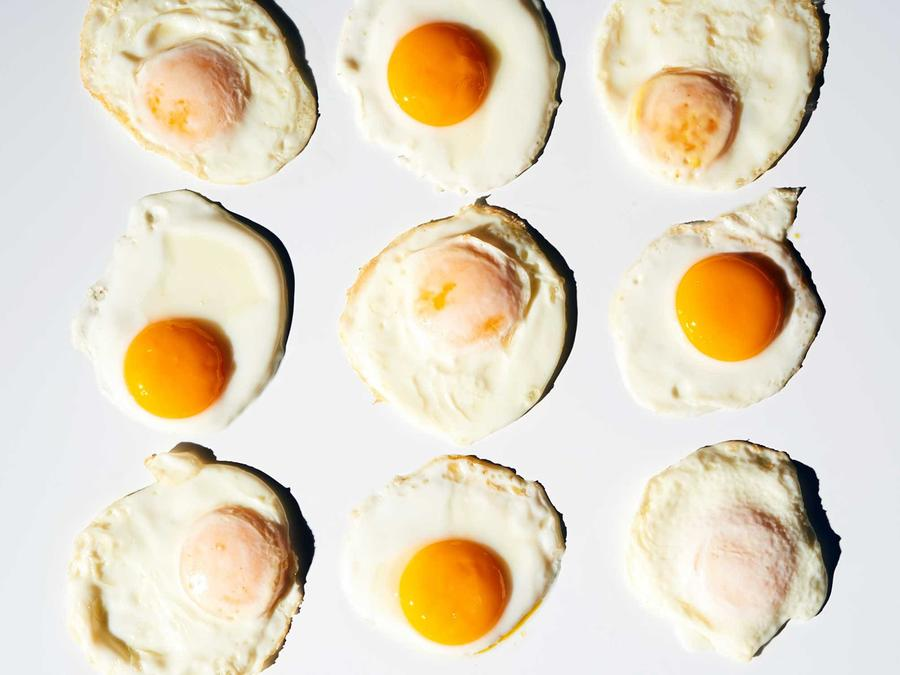fried egg: (59, 473, 298, 673), (348, 5, 552, 191), (86, 235, 279, 416), (334, 487, 538, 655), (77, 28, 313, 173), (641, 462, 827, 644), (618, 226, 807, 398), (377, 221, 545, 414), (602, 21, 807, 173)
